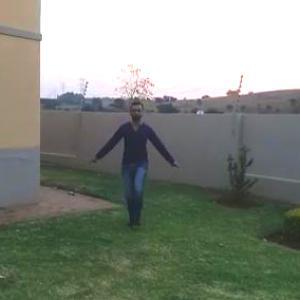land: (86, 103, 182, 235)
